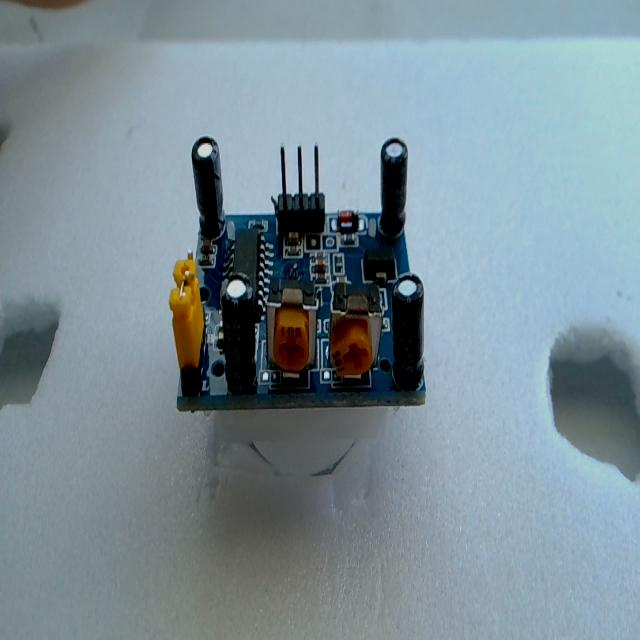Electrolytic capacitor: (220, 274, 256, 392), (391, 274, 425, 391), (192, 134, 226, 242), (379, 137, 409, 239)
IC: (232, 227, 264, 317)
pinheader: (274, 144, 326, 236)
